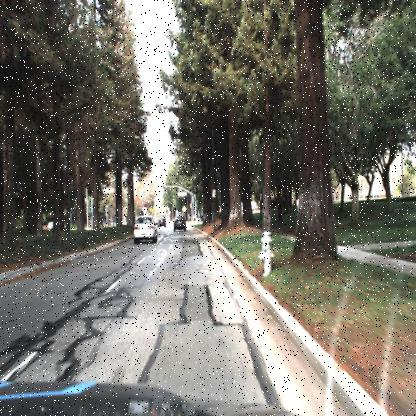car: (133, 212, 156, 244), (174, 212, 188, 232), (48, 221, 66, 230), (156, 214, 166, 228)
